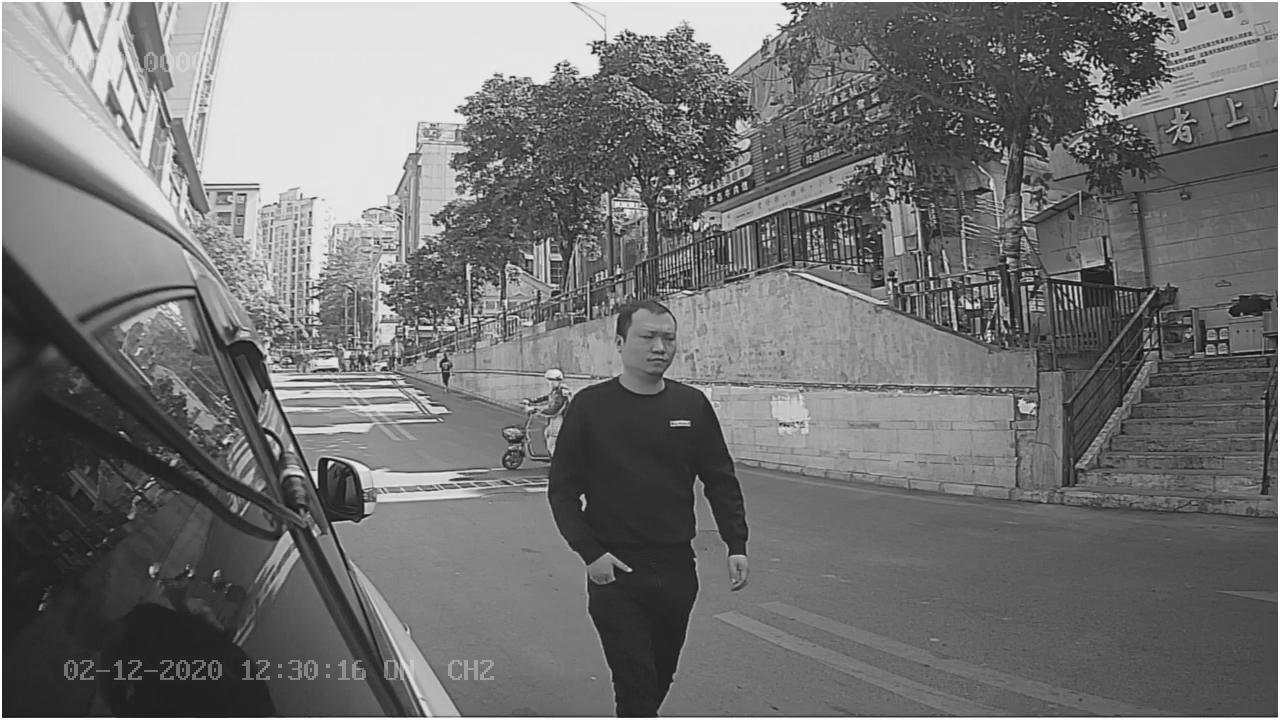person: (545, 296, 750, 591)
